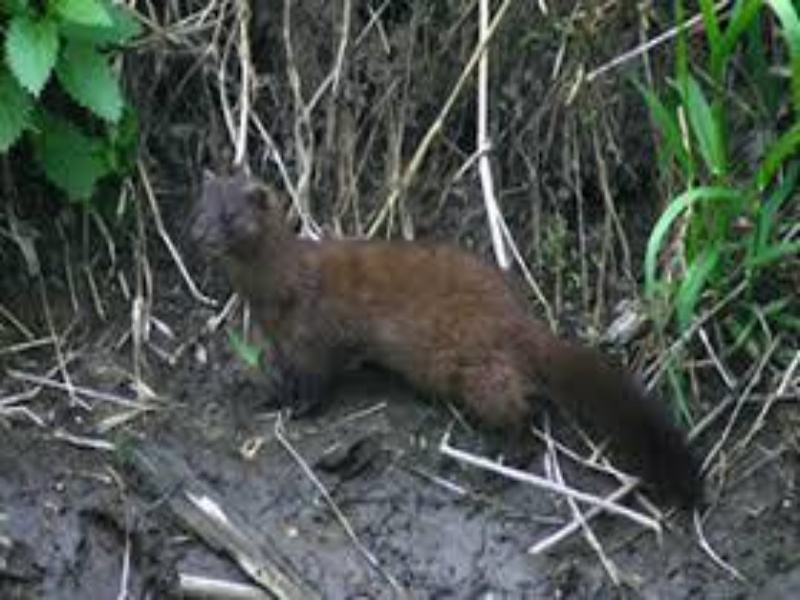minkish: (190, 170, 708, 499)
